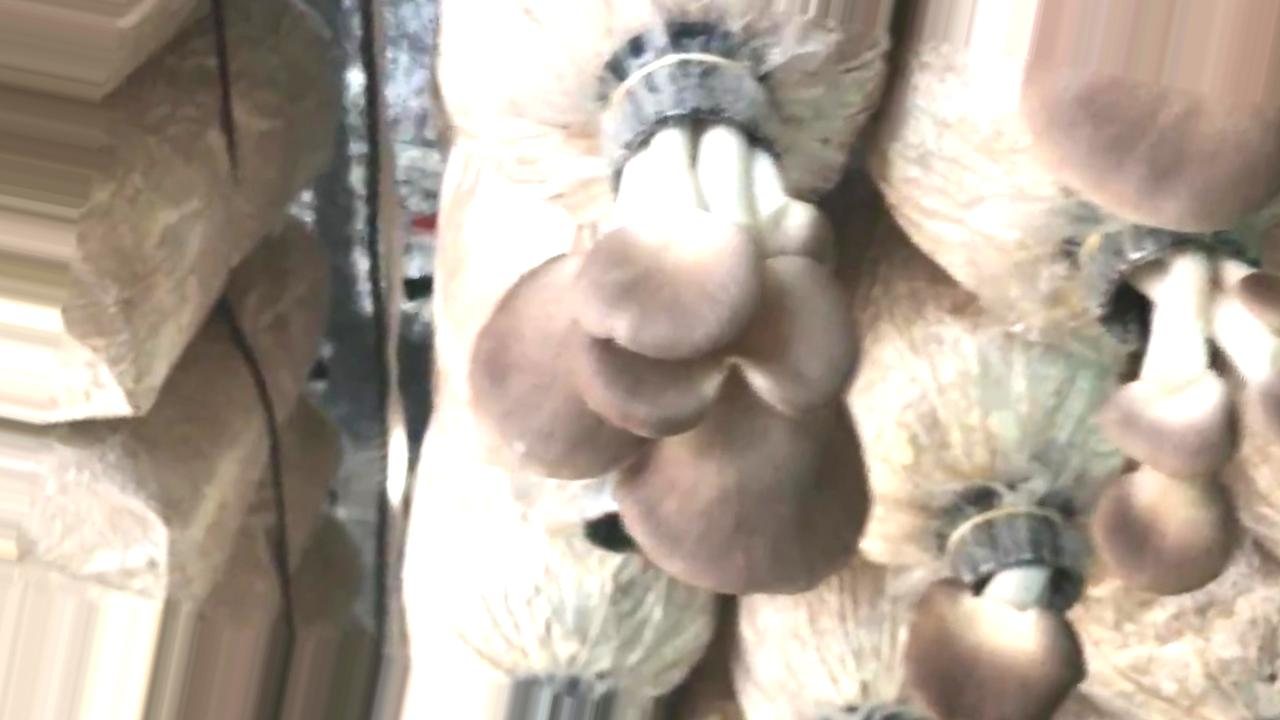nam: (473, 52, 866, 595), (1091, 226, 1280, 592), (1022, 1, 1279, 233), (910, 524, 1085, 719)
